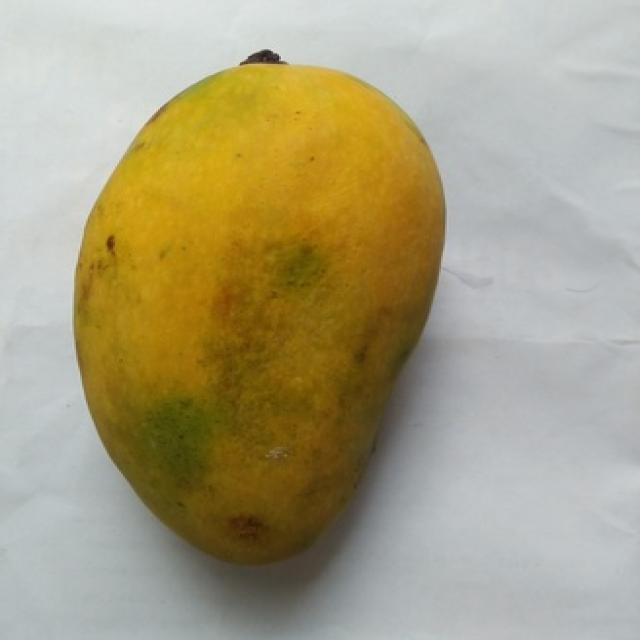Mango: (74, 64, 443, 560)
